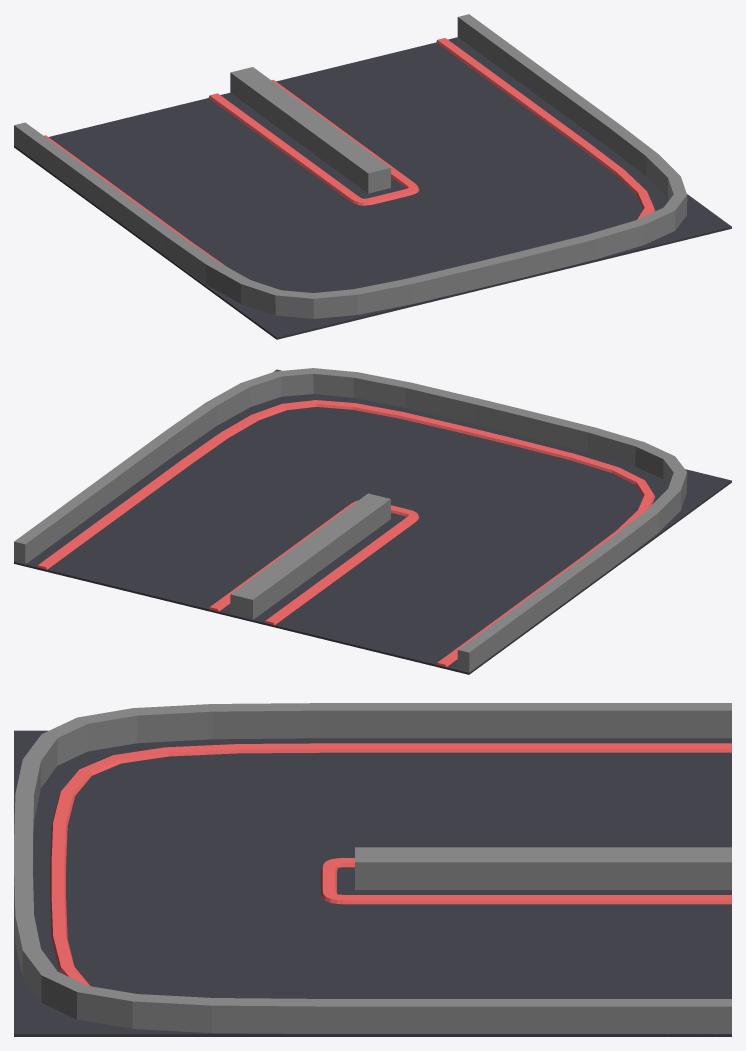
File: kartkids_base_trk_040_trn_180_l_2x2.glb
The picture shows the model from 3 angles, top to bottom: view 1: azimuth 30°, elevation 25°; view 2: azimuth 150°, elevation 25°; view 3: azimuth 270°, elevation 25°; orthographic projection. The views are drawn at different scales.
Visible parts, largest first — view 1: kartkids_base_trk_010_rd_straight_1x1.001, kartkids_base_trk_020_trn_90_l_1x1.019, kartkids_base_trk_020_trn_90_l_1x1.013, kartkids_base_trk_010_rd_straight_1x1.082, kartkids_base_trk_020_trn_90_l_1x1.010; view 2: kartkids_base_trk_010_rd_straight_1x1.001, kartkids_base_trk_020_trn_90_l_1x1.019, kartkids_base_trk_020_trn_90_l_1x1.013, kartkids_base_trk_010_rd_straight_1x1.082; view 3: kartkids_base_trk_010_rd_straight_1x1.001, kartkids_base_trk_020_trn_90_l_1x1.013, kartkids_base_trk_020_trn_90_l_1x1.019, kartkids_base_trk_010_rd_straight_1x1.082, kartkids_base_trk_020_trn_90_l_1x1.010.
Boxes of the visible parts, x1=… form: kartkids_base_trk_010_rd_straight_1x1.001: x1=14, y1=37, x2=731, y2=339; kartkids_base_trk_020_trn_90_l_1x1.019: x1=145, y1=110, x2=687, y2=318; kartkids_base_trk_020_trn_90_l_1x1.013: x1=14, y1=14, x2=599, y2=240; kartkids_base_trk_010_rd_straight_1x1.082: x1=175, y1=134, x2=655, y2=265; kartkids_base_trk_020_trn_90_l_1x1.010: x1=361, y1=163, x2=390, y2=193; kartkids_base_trk_010_rd_straight_1x1.001: x1=14, y1=369, x2=731, y2=674; kartkids_base_trk_020_trn_90_l_1x1.019: x1=145, y1=368, x2=687, y2=576; kartkids_base_trk_020_trn_90_l_1x1.013: x1=14, y1=445, x2=600, y2=672; kartkids_base_trk_010_rd_straight_1x1.082: x1=170, y1=400, x2=654, y2=566; kartkids_base_trk_010_rd_straight_1x1.001: x1=14, y1=730, x2=731, y2=1036; kartkids_base_trk_020_trn_90_l_1x1.013: x1=373, y1=703, x2=731, y2=1034; kartkids_base_trk_020_trn_90_l_1x1.019: x1=14, y1=703, x2=372, y2=1034; kartkids_base_trk_010_rd_straight_1x1.082: x1=50, y1=743, x2=372, y2=985; kartkids_base_trk_020_trn_90_l_1x1.010: x1=355, y1=847, x2=372, y2=889.
Size of the model in its own units: 20 by 0.9339 by 20.
